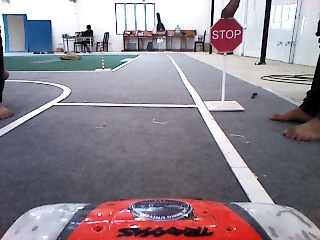stop: (207, 15, 247, 57)
